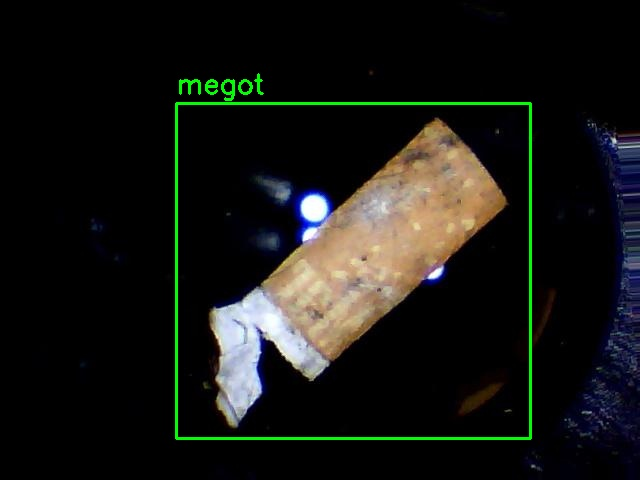megot: (176, 103, 530, 438)
